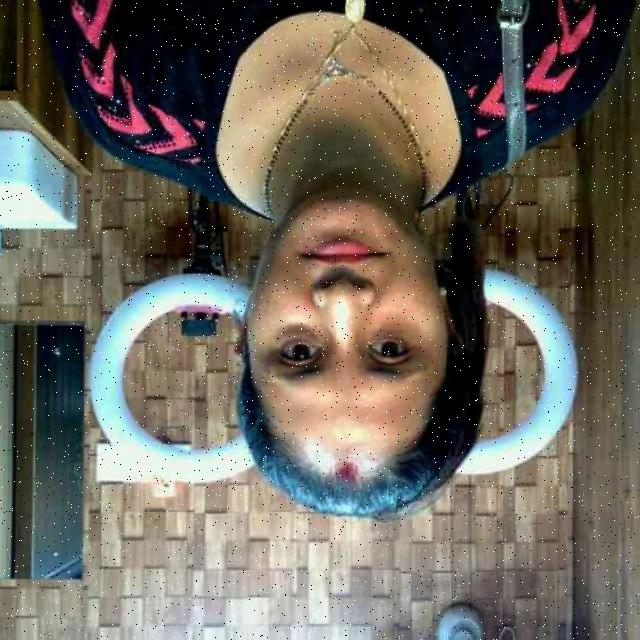puffy_eyes: (272, 325, 327, 345)
